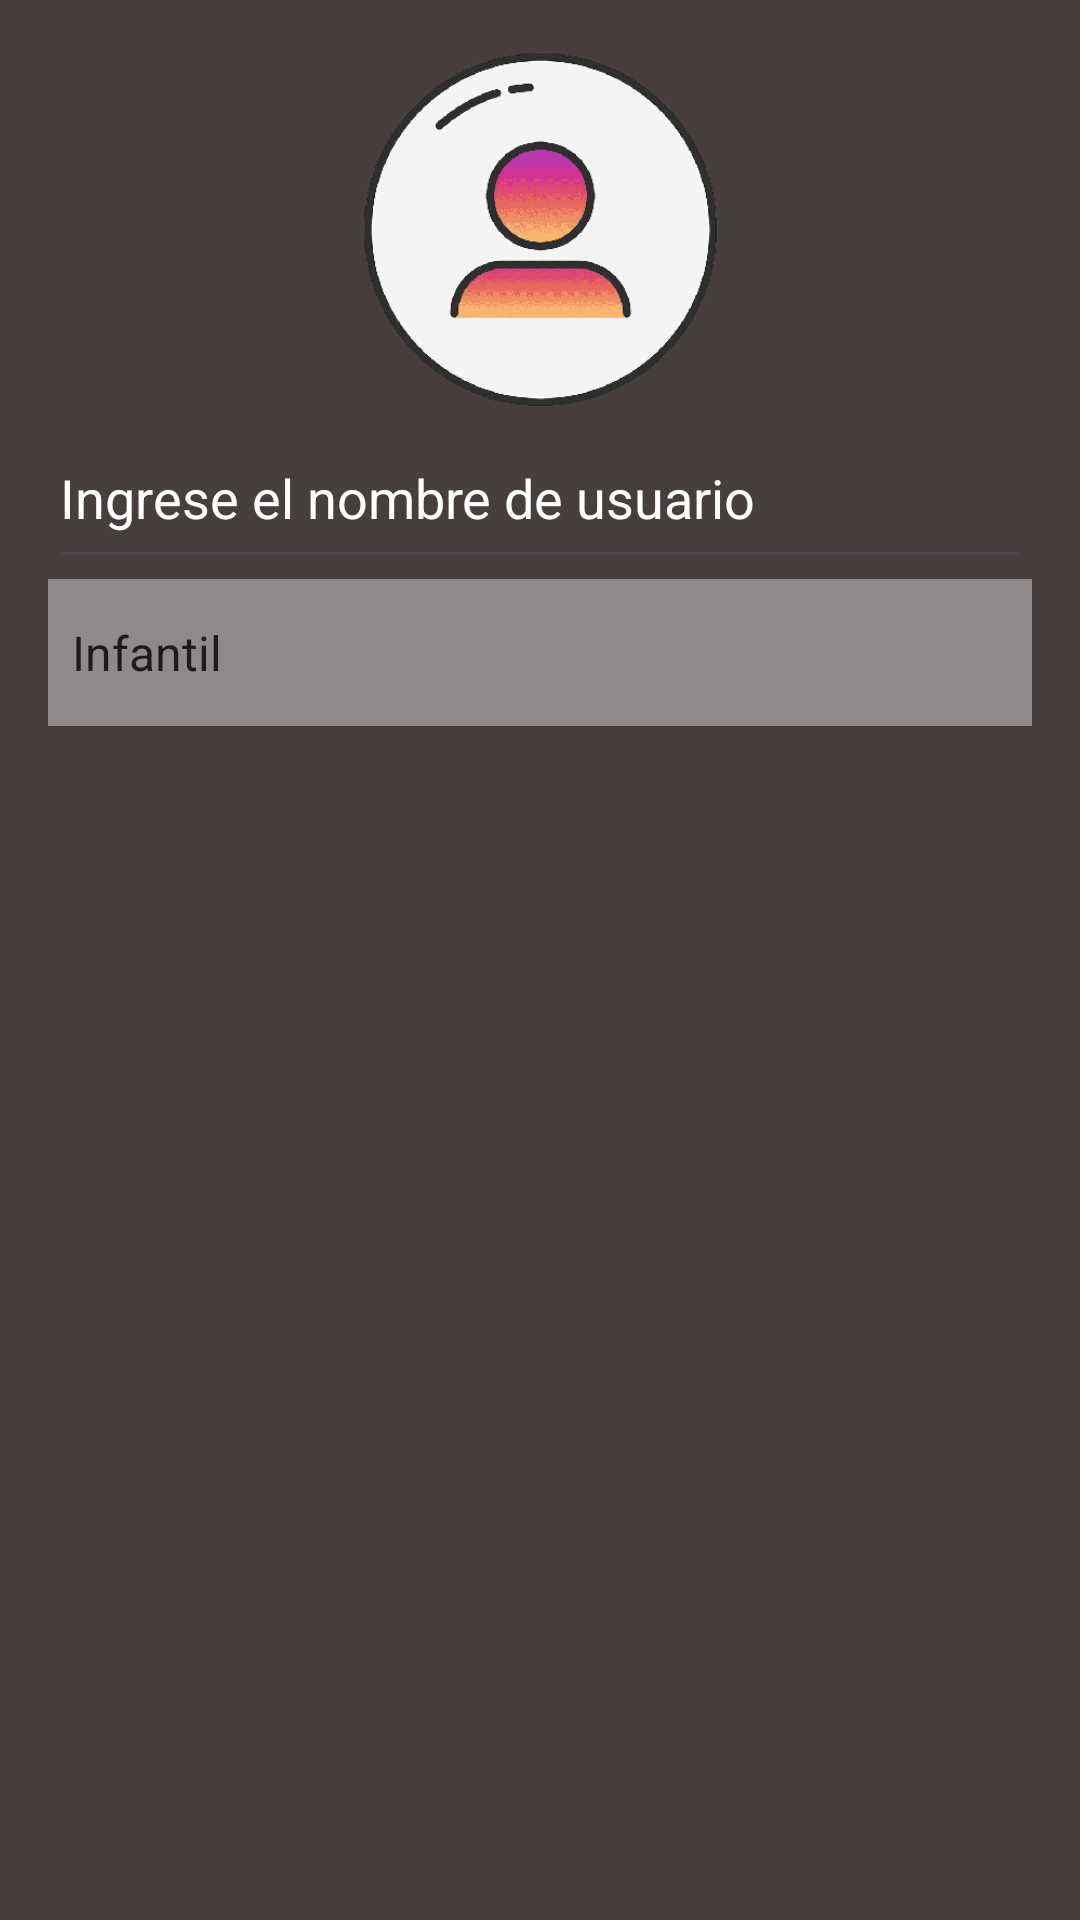

Where to tap for icons on this 1080px x 1920px app screen, as point (x, y):
perfil: point (541, 230)
